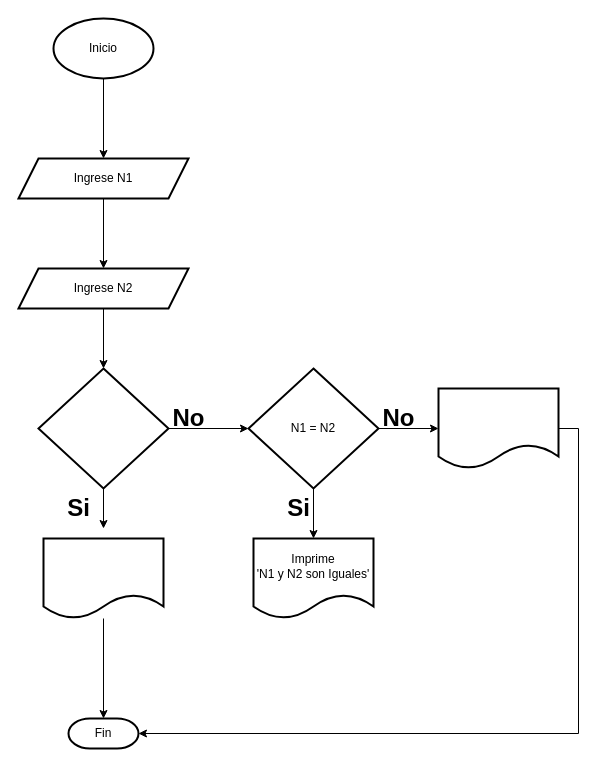
This 604x766 diagram has some shape labels left out. The box of each missing label's shape, as (x1, y1, x2, y2) in pixels:
Imprime 'N1 es Mayor': (42, 537, 164, 619)
Imprime 'N2 es Mayor': (437, 387, 559, 469)
N1 > N2: (37, 367, 169, 489)
